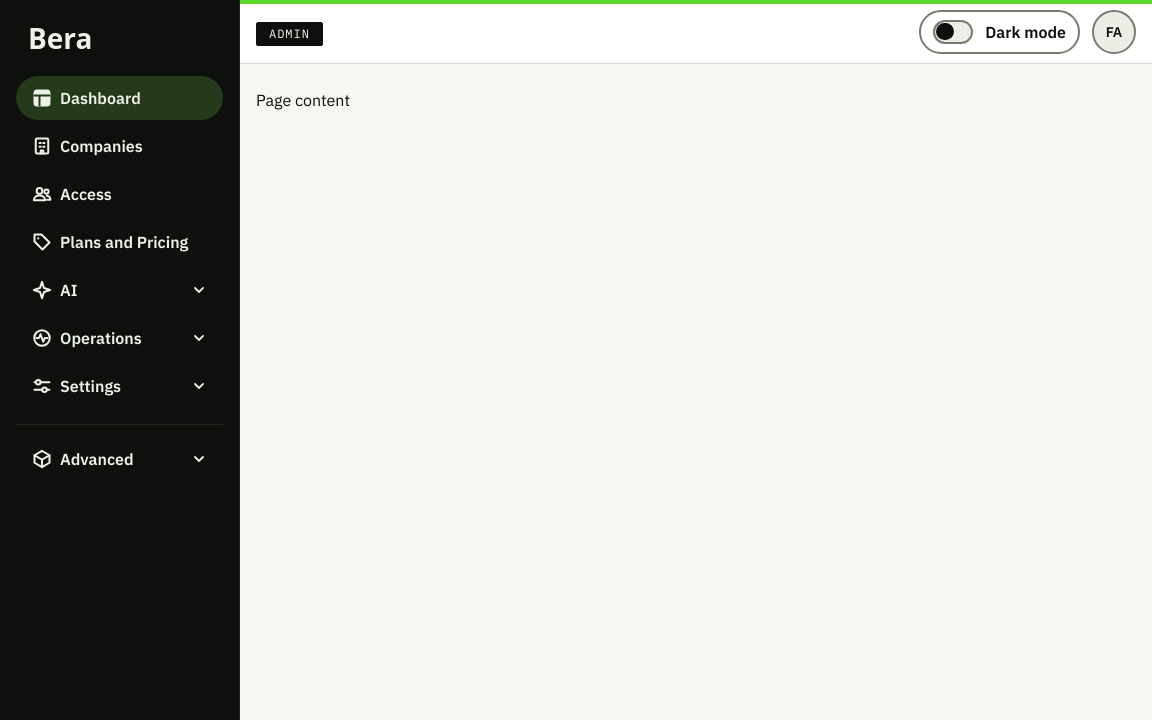
Scenario: sub-menus › AI opens with its pages and closes on click
Click the button "AI" at (120, 290), box [16, 268, 223, 312]
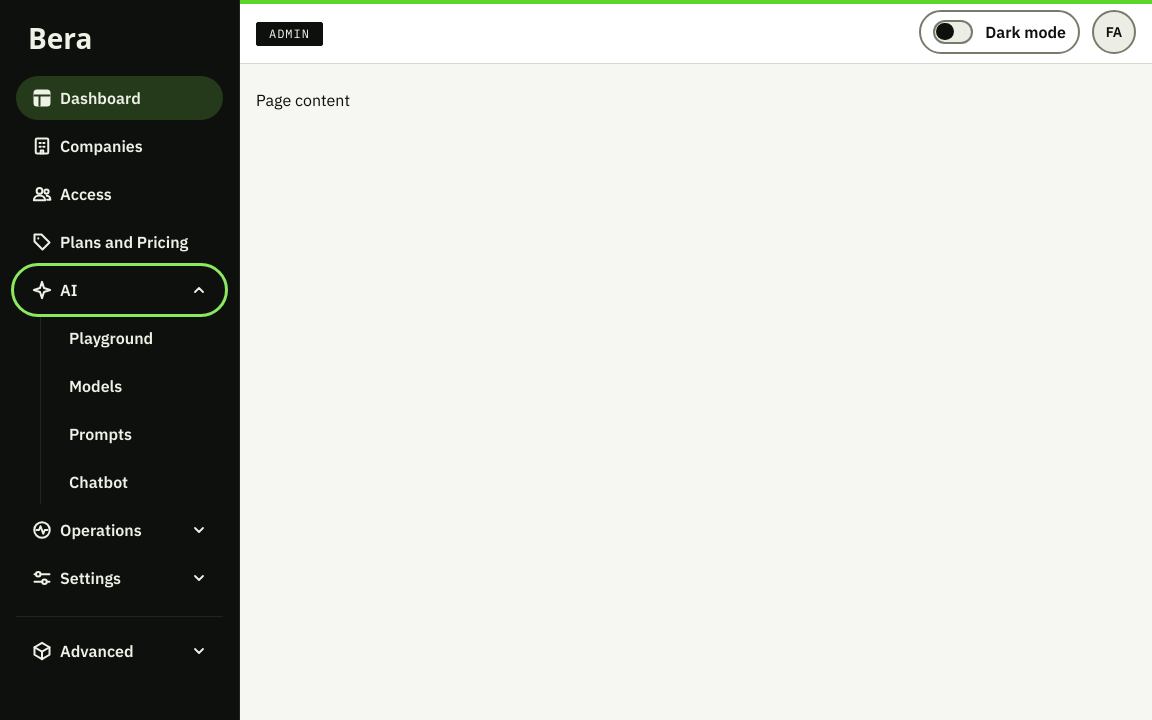
expect the button "AI" is expanded: met
Click the button "AI" at (120, 290), box [16, 268, 223, 312]
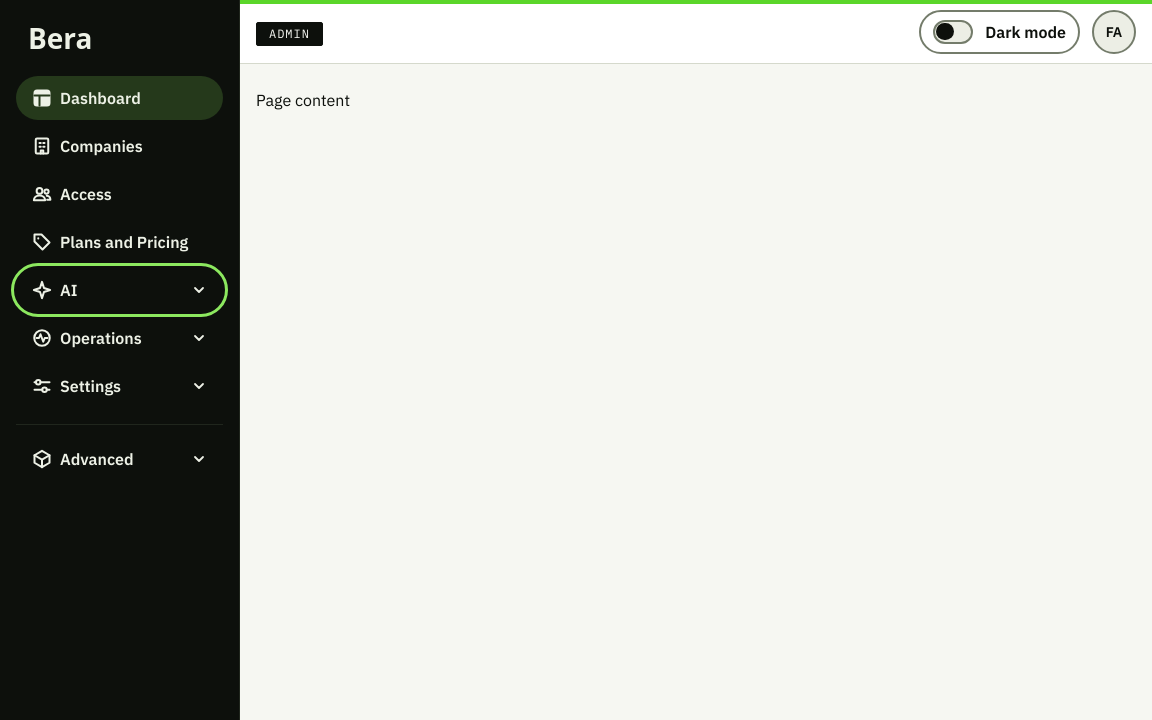
expect the link "Playground" is gone: met
